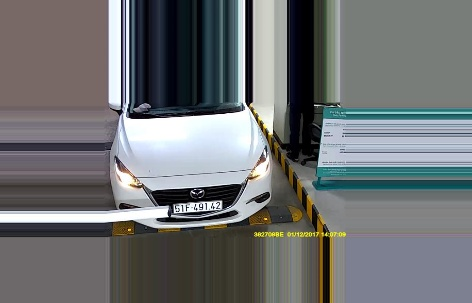plate: (172, 198, 222, 213)
